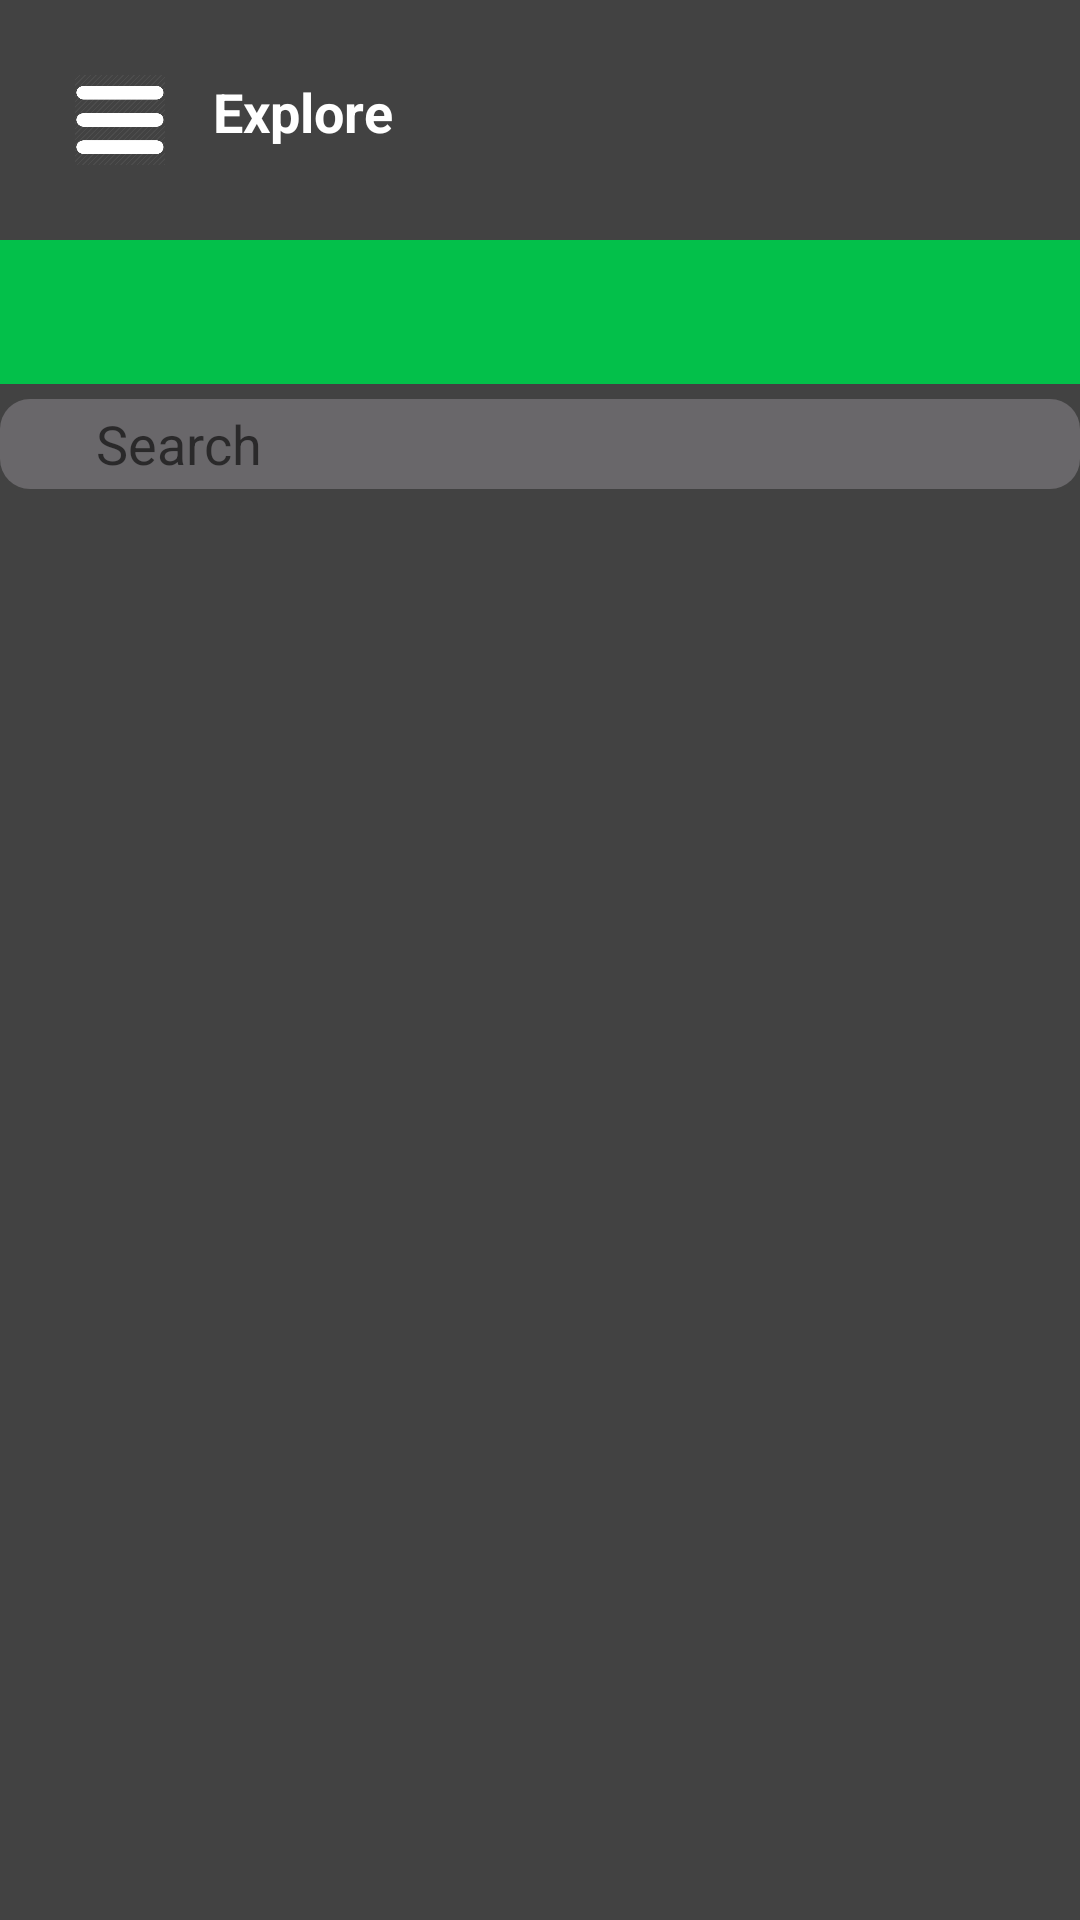

Named icons in this screenshot (1080px x 1920px) and their centers, (x=x, y=y):
menu: (x=120, y=120)
